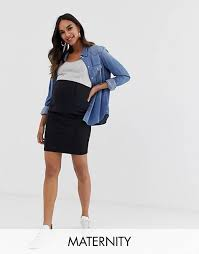F_tailored skirt: (45, 78, 99, 154)
